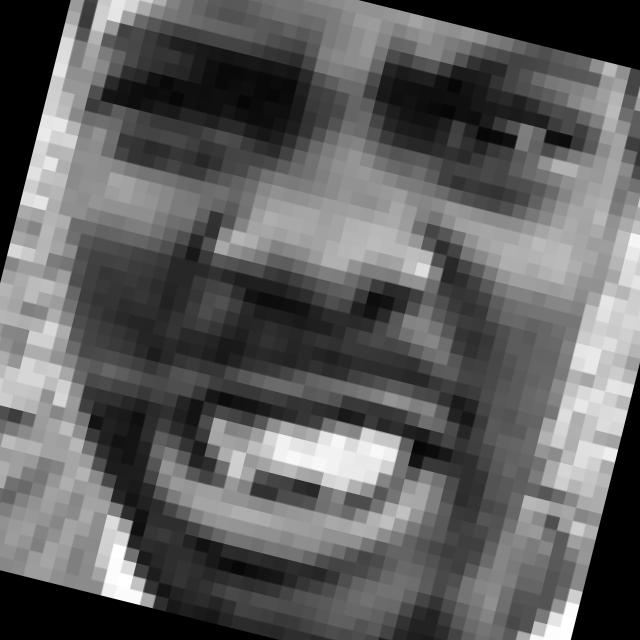angry: (0, 0, 625, 621)
